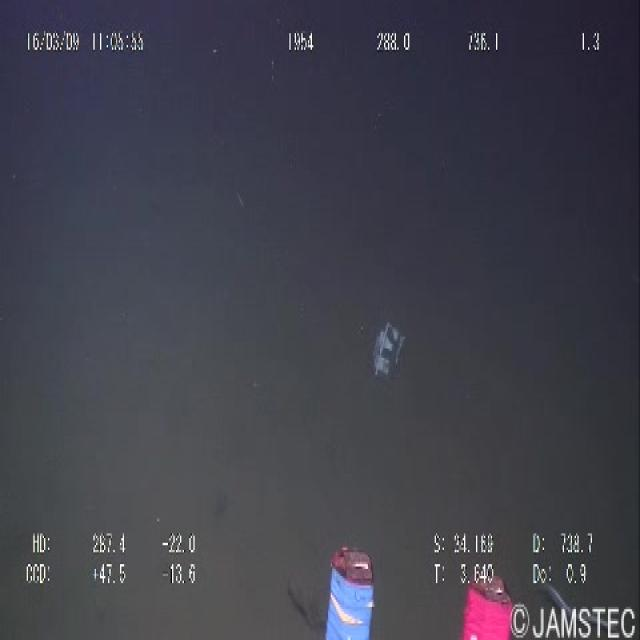plastic: (364, 294, 411, 391)
